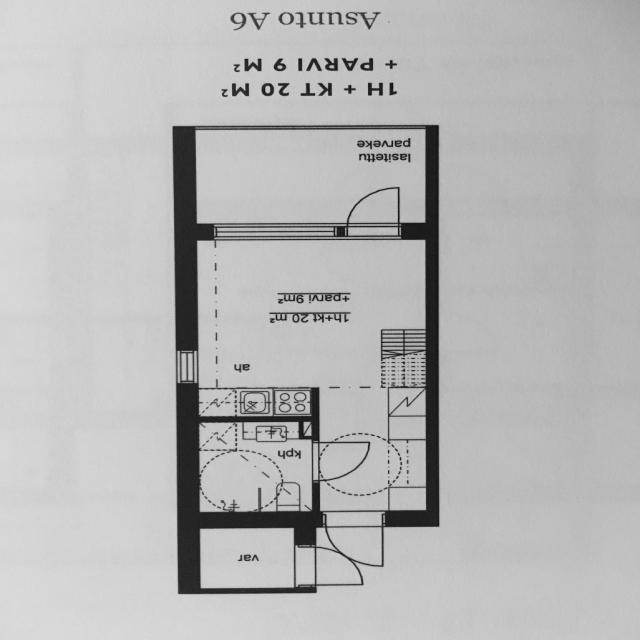door: (309, 512, 392, 584), (294, 538, 372, 593), (308, 435, 375, 489), (342, 180, 406, 235)
window: (205, 221, 340, 241), (171, 346, 202, 390)
zone: (191, 229, 433, 412), (193, 420, 317, 518), (189, 520, 313, 594), (307, 434, 375, 495)
